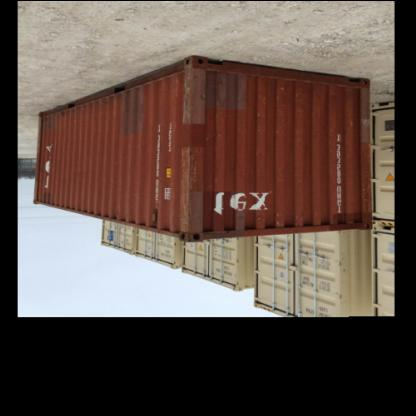Damage: (178, 72, 206, 126), (176, 148, 204, 198), (174, 195, 204, 241), (248, 102, 268, 135)
